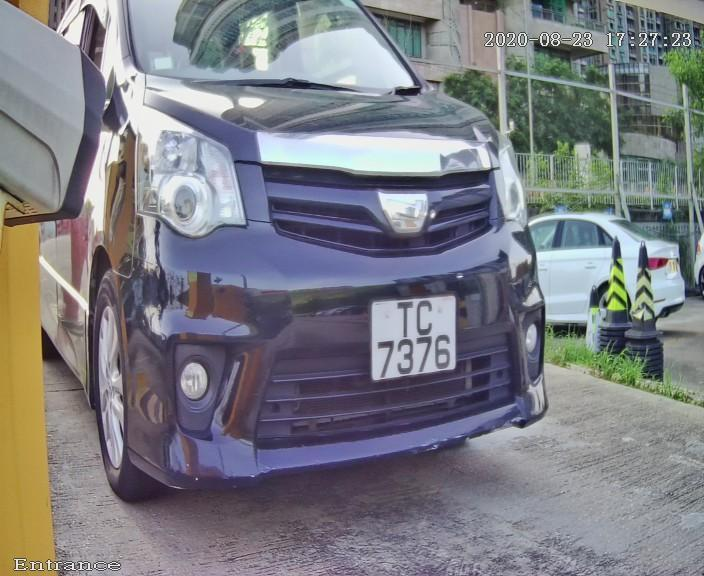Car: (48, 6, 576, 530)
License Plate: (359, 278, 466, 394)
